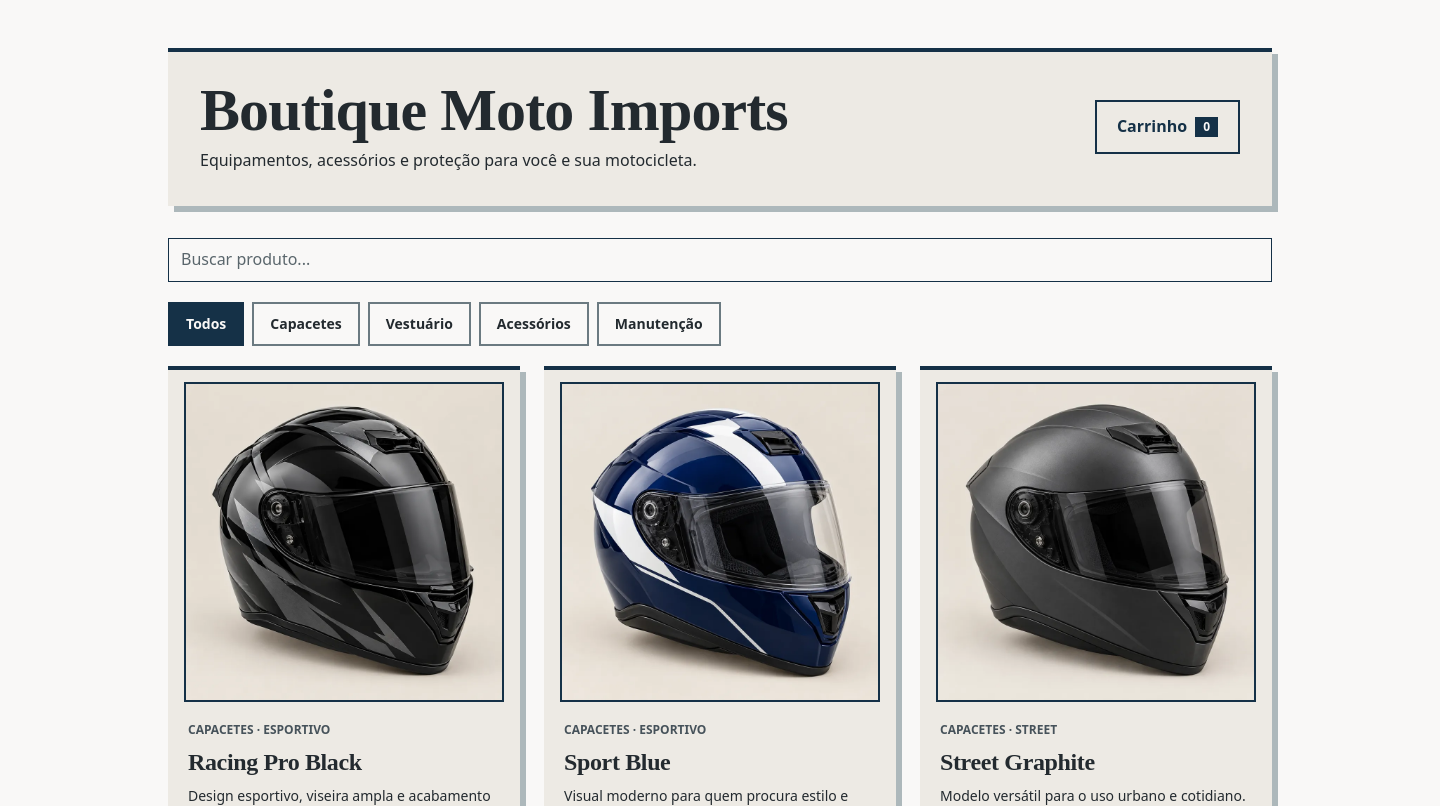
Test: Boutique · catálogo › mostra mensagem quando nada é encontrado
Type "foguete" into the search field named "Buscar produtos" at (720, 260), box x1=168 y1=238 x2=1272 y2=282
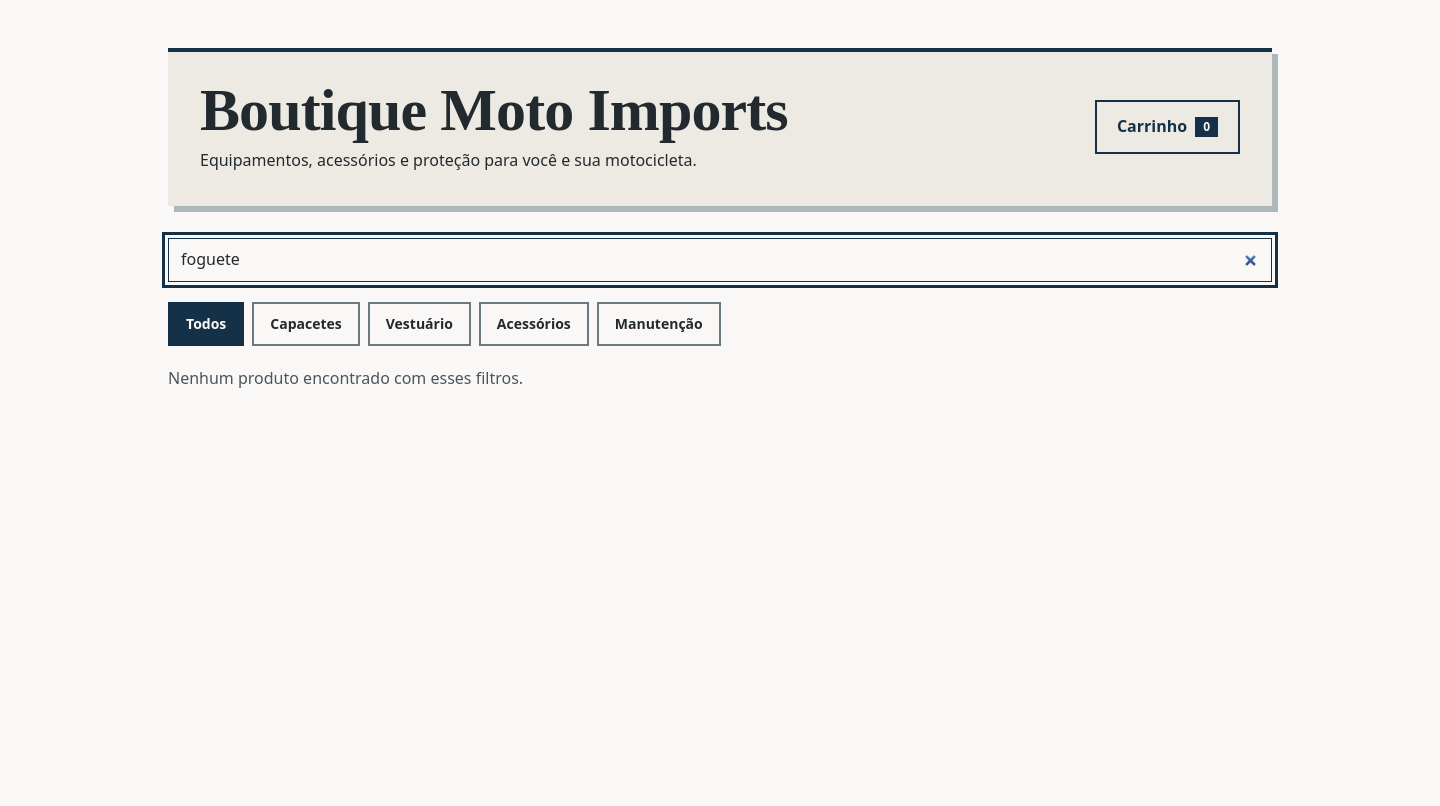
Now the text "Nenhum produto encontrado com esses filtros." is shown, box x1=168 y1=367 x2=523 y2=389
